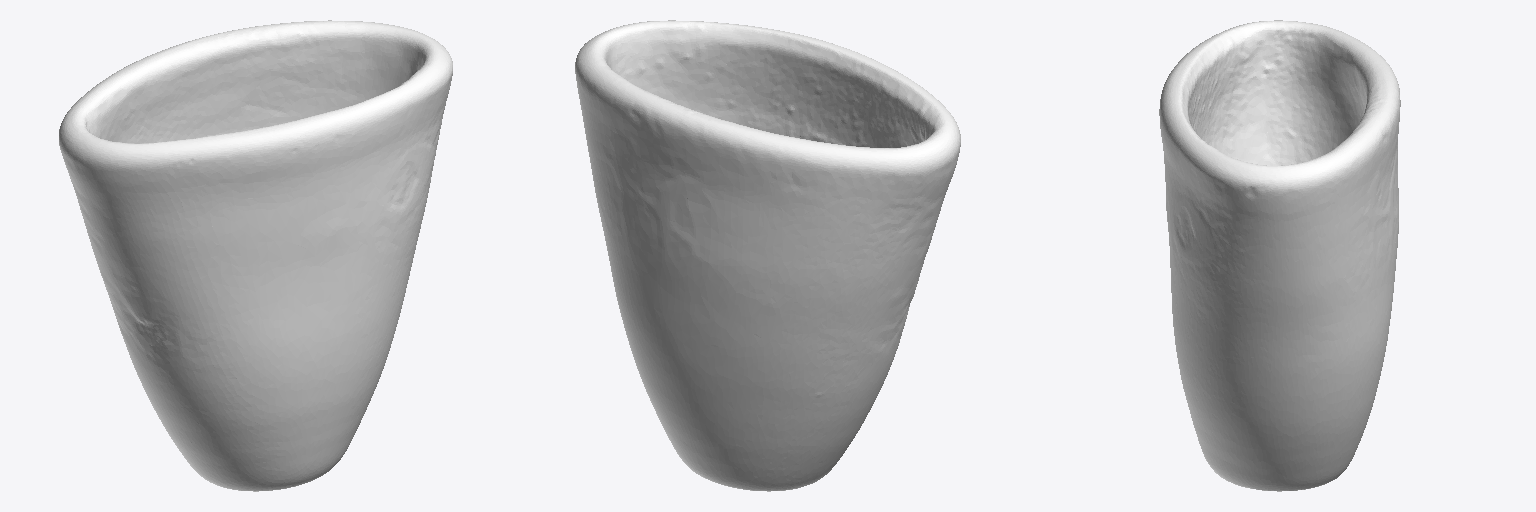
The robot description file, URDF, robot "model.urdf":
<robot name="model.urdf">
    <link name="baseLink">
        <contact>
            <lateral_friction value="0.3"/>
            <rolling_friction value="0.001"/>
            <spinning_friction value="0.001"/>
            <contact_cfm value="0.0"/>
            <contact_erp value="1.0"/>
        </contact>
        <inertial>
            <origin rpy="0 0 1.2" xyz="0 0.0 0.0"/>
            <mass value=".8"/>
            <inertia ixx="1e-3" ixy="0" ixz="0" iyy="1e-3" iyz="0" izz="1e-3"/>
        </inertial>
        <visual>
            <geometry>
                <mesh filename="nontextured.stl" scale="0.8 0.8 0.8"/>
            </geometry>
            <material name="white">
                <color rgba="1 1 1 1"/>
            </material>
        </visual>
        <collision>
            <geometry>
                <mesh filename="nontextured.stl" scale="0.8 0.8 0.8"/>
            </geometry>
        </collision>
    </link>
</robot>

--- Render facts (derived) ---
The picture shows the robot from 3 angles, left to right: view 1: azimuth 30°, elevation 25°; view 2: azimuth 150°, elevation 25°; view 3: azimuth 270°, elevation 25°; orthographic projection.
Model model.urdf with 1 links and 0 joints (none), rooted at baseLink, posed every joint at zero.
Visible links, largest first — view 1: baseLink; view 2: baseLink; view 3: baseLink.
Link boxes in pixels (x1=…): baseLink: x1=59, y1=20, x2=452, y2=491; baseLink: x1=575, y1=20, x2=960, y2=491; baseLink: x1=1159, y1=20, x2=1400, y2=491.
Bounding box of the posed robot: 0.1392 × 0.0812 × 0.1406 m (x, y, z).
1 mesh visuals loaded from 1 distinct referenced files (1 binary STL).